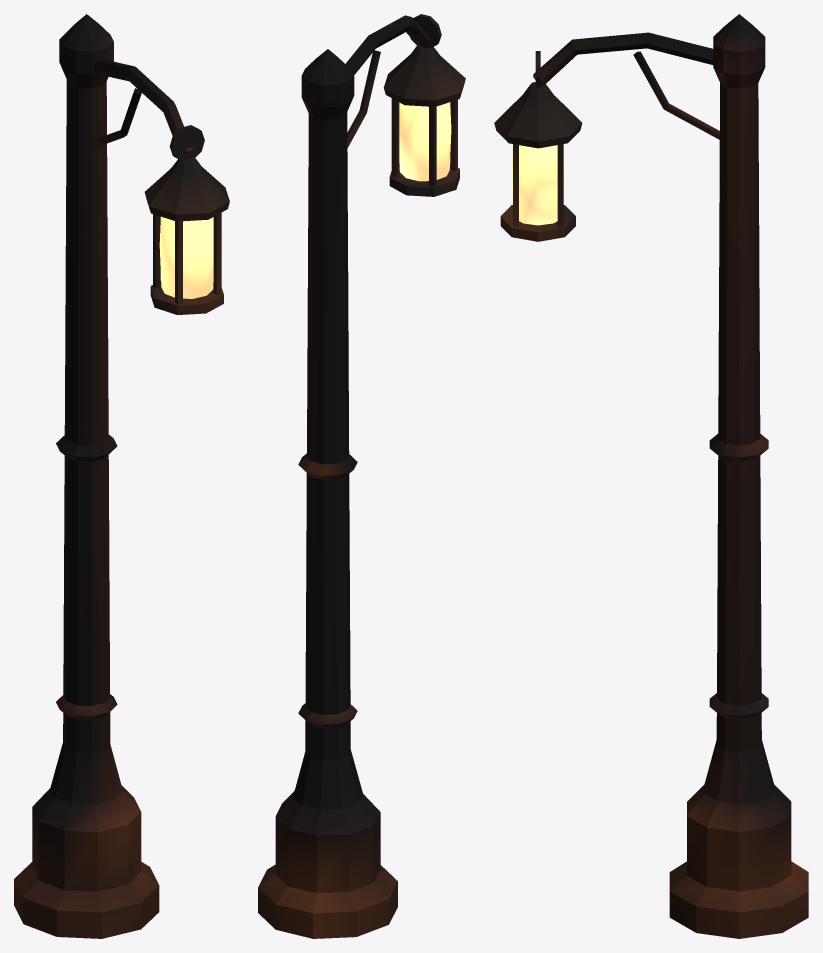
The model's file is lamp-post.glb.
3 views of the same model, side by side, from view 1: azimuth 30°, elevation 25°; view 2: azimuth 150°, elevation 25°; view 3: azimuth 270°, elevation 25° (orthographic). The views are drawn at different scales.
Visible parts, largest first — view 1: lamp-post-iron, lamp-post-glow; view 2: lamp-post-iron, lamp-post-glow; view 3: lamp-post-iron, lamp-post-glow.
Boxes of the visible parts, box(x1,y1,x2,y2) form: lamp-post-iron: box(14, 14, 229, 938); lamp-post-glow: box(159, 216, 213, 298); lamp-post-iron: box(258, 14, 465, 938); lamp-post-glow: box(399, 102, 451, 181); lamp-post-iron: box(494, 14, 808, 938); lamp-post-glow: box(512, 145, 564, 225).
Size of the model in its own units: 0.4 by 2.7 by 0.8609.
